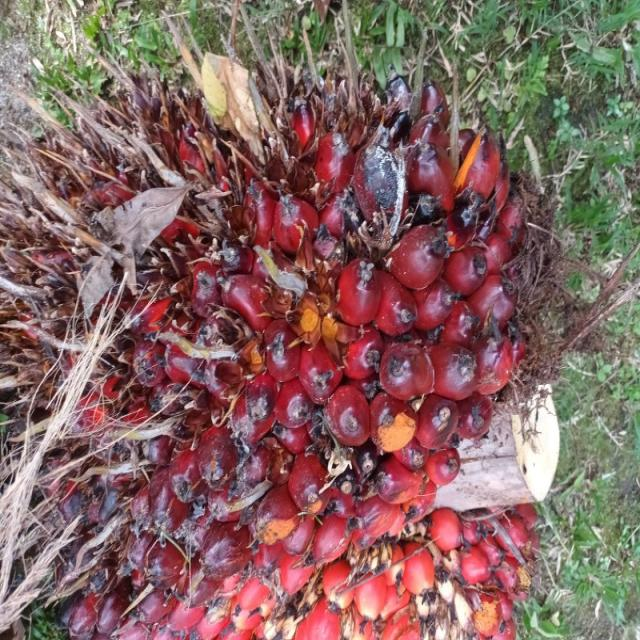fraksi 3: (34, 51, 475, 640)
